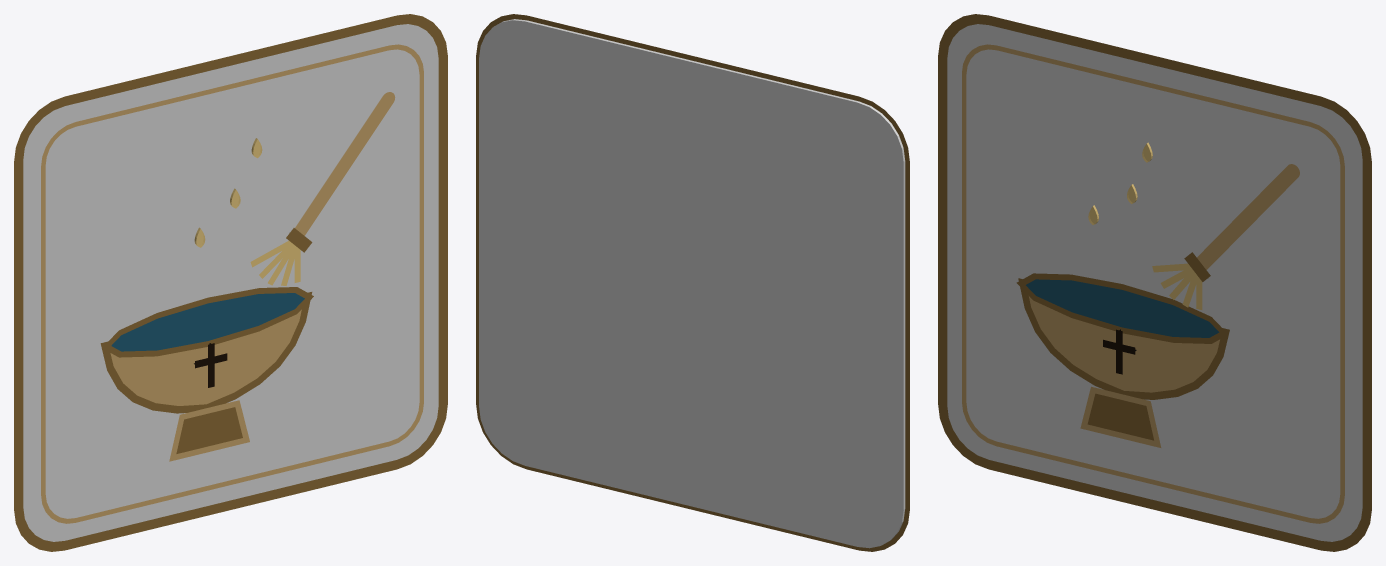
Rendered from obj-kropilo.glb.
3 renders of one model, left to right at view 1: azimuth 30°, elevation 25°; view 2: azimuth 150°, elevation 25°; view 3: azimuth 330°, elevation 25°, orthographic.
Parts seen in each view (by area): view 1: obj-kropilo; view 2: obj-kropilo; view 3: obj-kropilo.
Part boxes in pixels (left/top/right/bottom): obj-kropilo: left=14, top=14, right=447, bottom=551; obj-kropilo: left=476, top=14, right=909, bottom=551; obj-kropilo: left=938, top=14, right=1371, bottom=551.
Size of the model in its own units: 0.3917 by 0.3917 by 0.03.
